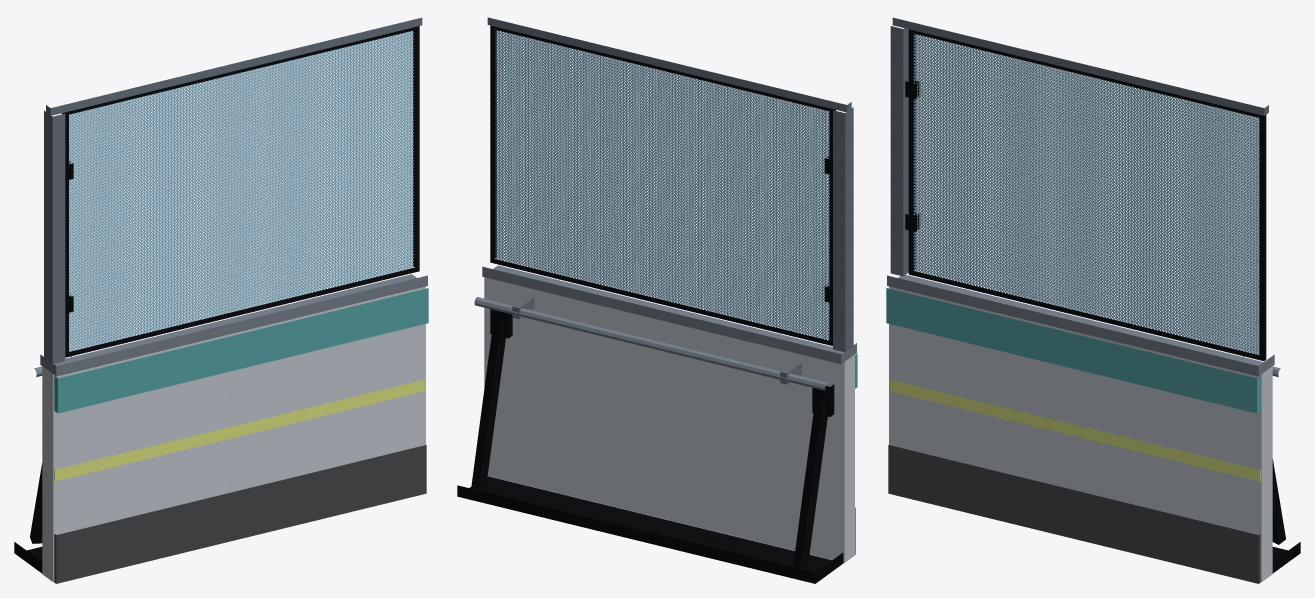
Rendered from tt_rink_board_2m.glb.
3 views of the same model, side by side, from view 1: azimuth 30°, elevation 25°; view 2: azimuth 150°, elevation 25°; view 3: azimuth 330°, elevation 25° (orthographic). The views are drawn at different scales.
Parts seen in each view (by area): view 1: Pane_Scissor, Board_Shell, Kick_Plate, Cap_Pad, Glazing_Frame, Cap_Rail, Pane_Frit, Court_Stripe, Sill_Frame; view 2: Pane_Scissor, Board_Shell, Sill_Frame, Glazing_Frame, Cap_Rail, Pane_Frit, Spectator_Rail; view 3: Pane_Scissor, Board_Shell, Kick_Plate, Cap_Pad, Glazing_Frame, Pane_Frit, Cap_Rail, Court_Stripe, Sill_Frame.
Part boxes in pixels (<box>): Pane_Scissor: <box>69,31,414,351</box>; Board_Shell: <box>42,286,425,582</box>; Kick_Plate: <box>54,445,426,583</box>; Cap_Pad: <box>54,288,428,413</box>; Glazing_Frame: <box>44,17,422,363</box>; Cap_Rail: <box>40,274,427,376</box>; Pane_Frit: <box>62,26,419,357</box>; Court_Stripe: <box>54,379,425,481</box>; Sill_Frame: <box>14,463,42,573</box>; Pane_Scissor: <box>495,30,829,340</box>; Board_Shell: <box>484,277,854,562</box>; Sill_Frame: <box>457,309,843,583</box>; Glazing_Frame: <box>487,17,853,352</box>; Cap_Rail: <box>482,265,856,364</box>; Pane_Frit: <box>490,25,835,345</box>; Spectator_Rail: <box>474,297,827,390</box>; Pane_Scissor: <box>913,33,1259,354</box>; Board_Shell: <box>889,286,1272,582</box>; Kick_Plate: <box>888,445,1260,583</box>; Cap_Pad: <box>886,288,1260,413</box>; Glazing_Frame: <box>890,17,1268,276</box>; Pane_Frit: <box>908,29,1266,360</box>; Cap_Rail: <box>887,275,1274,376</box>; Court_Stripe: <box>889,379,1260,481</box>; Sill_Frame: <box>1272,459,1300,573</box>.
Size of what is drawn, in the model's own units: 2 by 2.42 by 0.405.
Materials: 9 (6 with a texture image).
